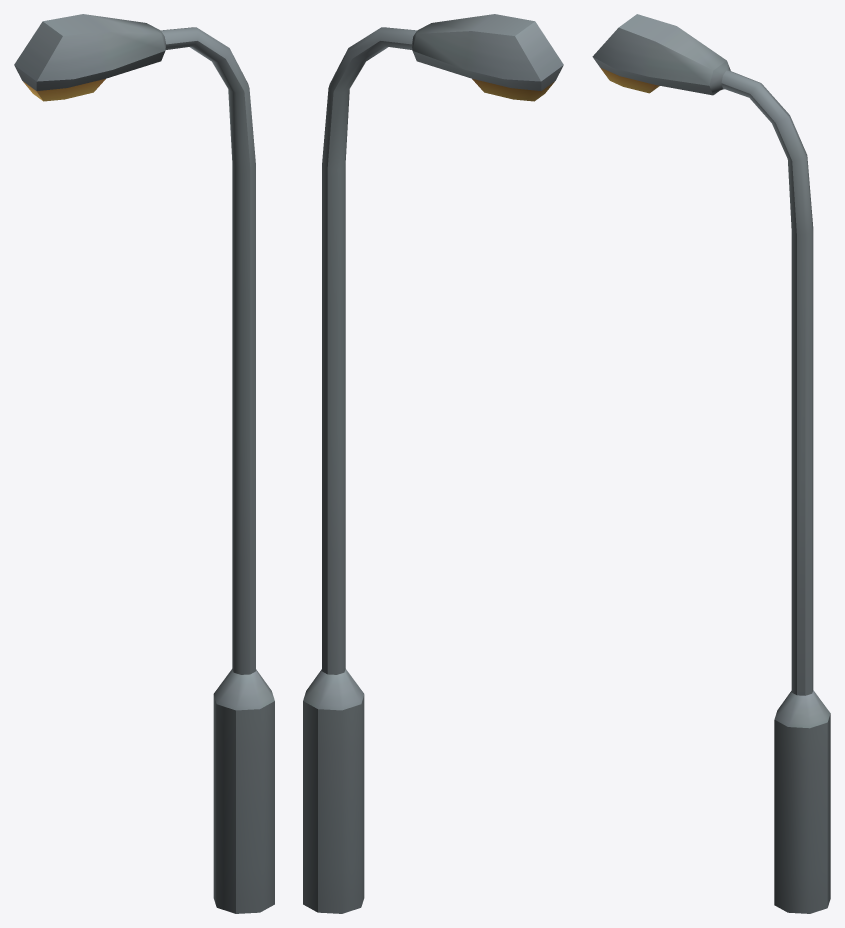
The model's file is kay-poste-rua.gltf.
3 renders of one model, left to right at view 1: azimuth 30°, elevation 25°; view 2: azimuth 150°, elevation 25°; view 3: azimuth 330°, elevation 25°, orthographic. The views are drawn at different scales.
Parts seen in each view (by area): view 1: streetlight; view 2: streetlight; view 3: streetlight.
Boxes of the visible parts, left/top/right/bottom form: streetlight: left=14, top=14, right=274, bottom=913; streetlight: left=303, top=14, right=563, bottom=913; streetlight: left=592, top=14, right=830, bottom=913.
Bounding box in the file's own units: 1.35 × 4.8 × 0.3451.
Materials: 1 (1 with a texture image).
